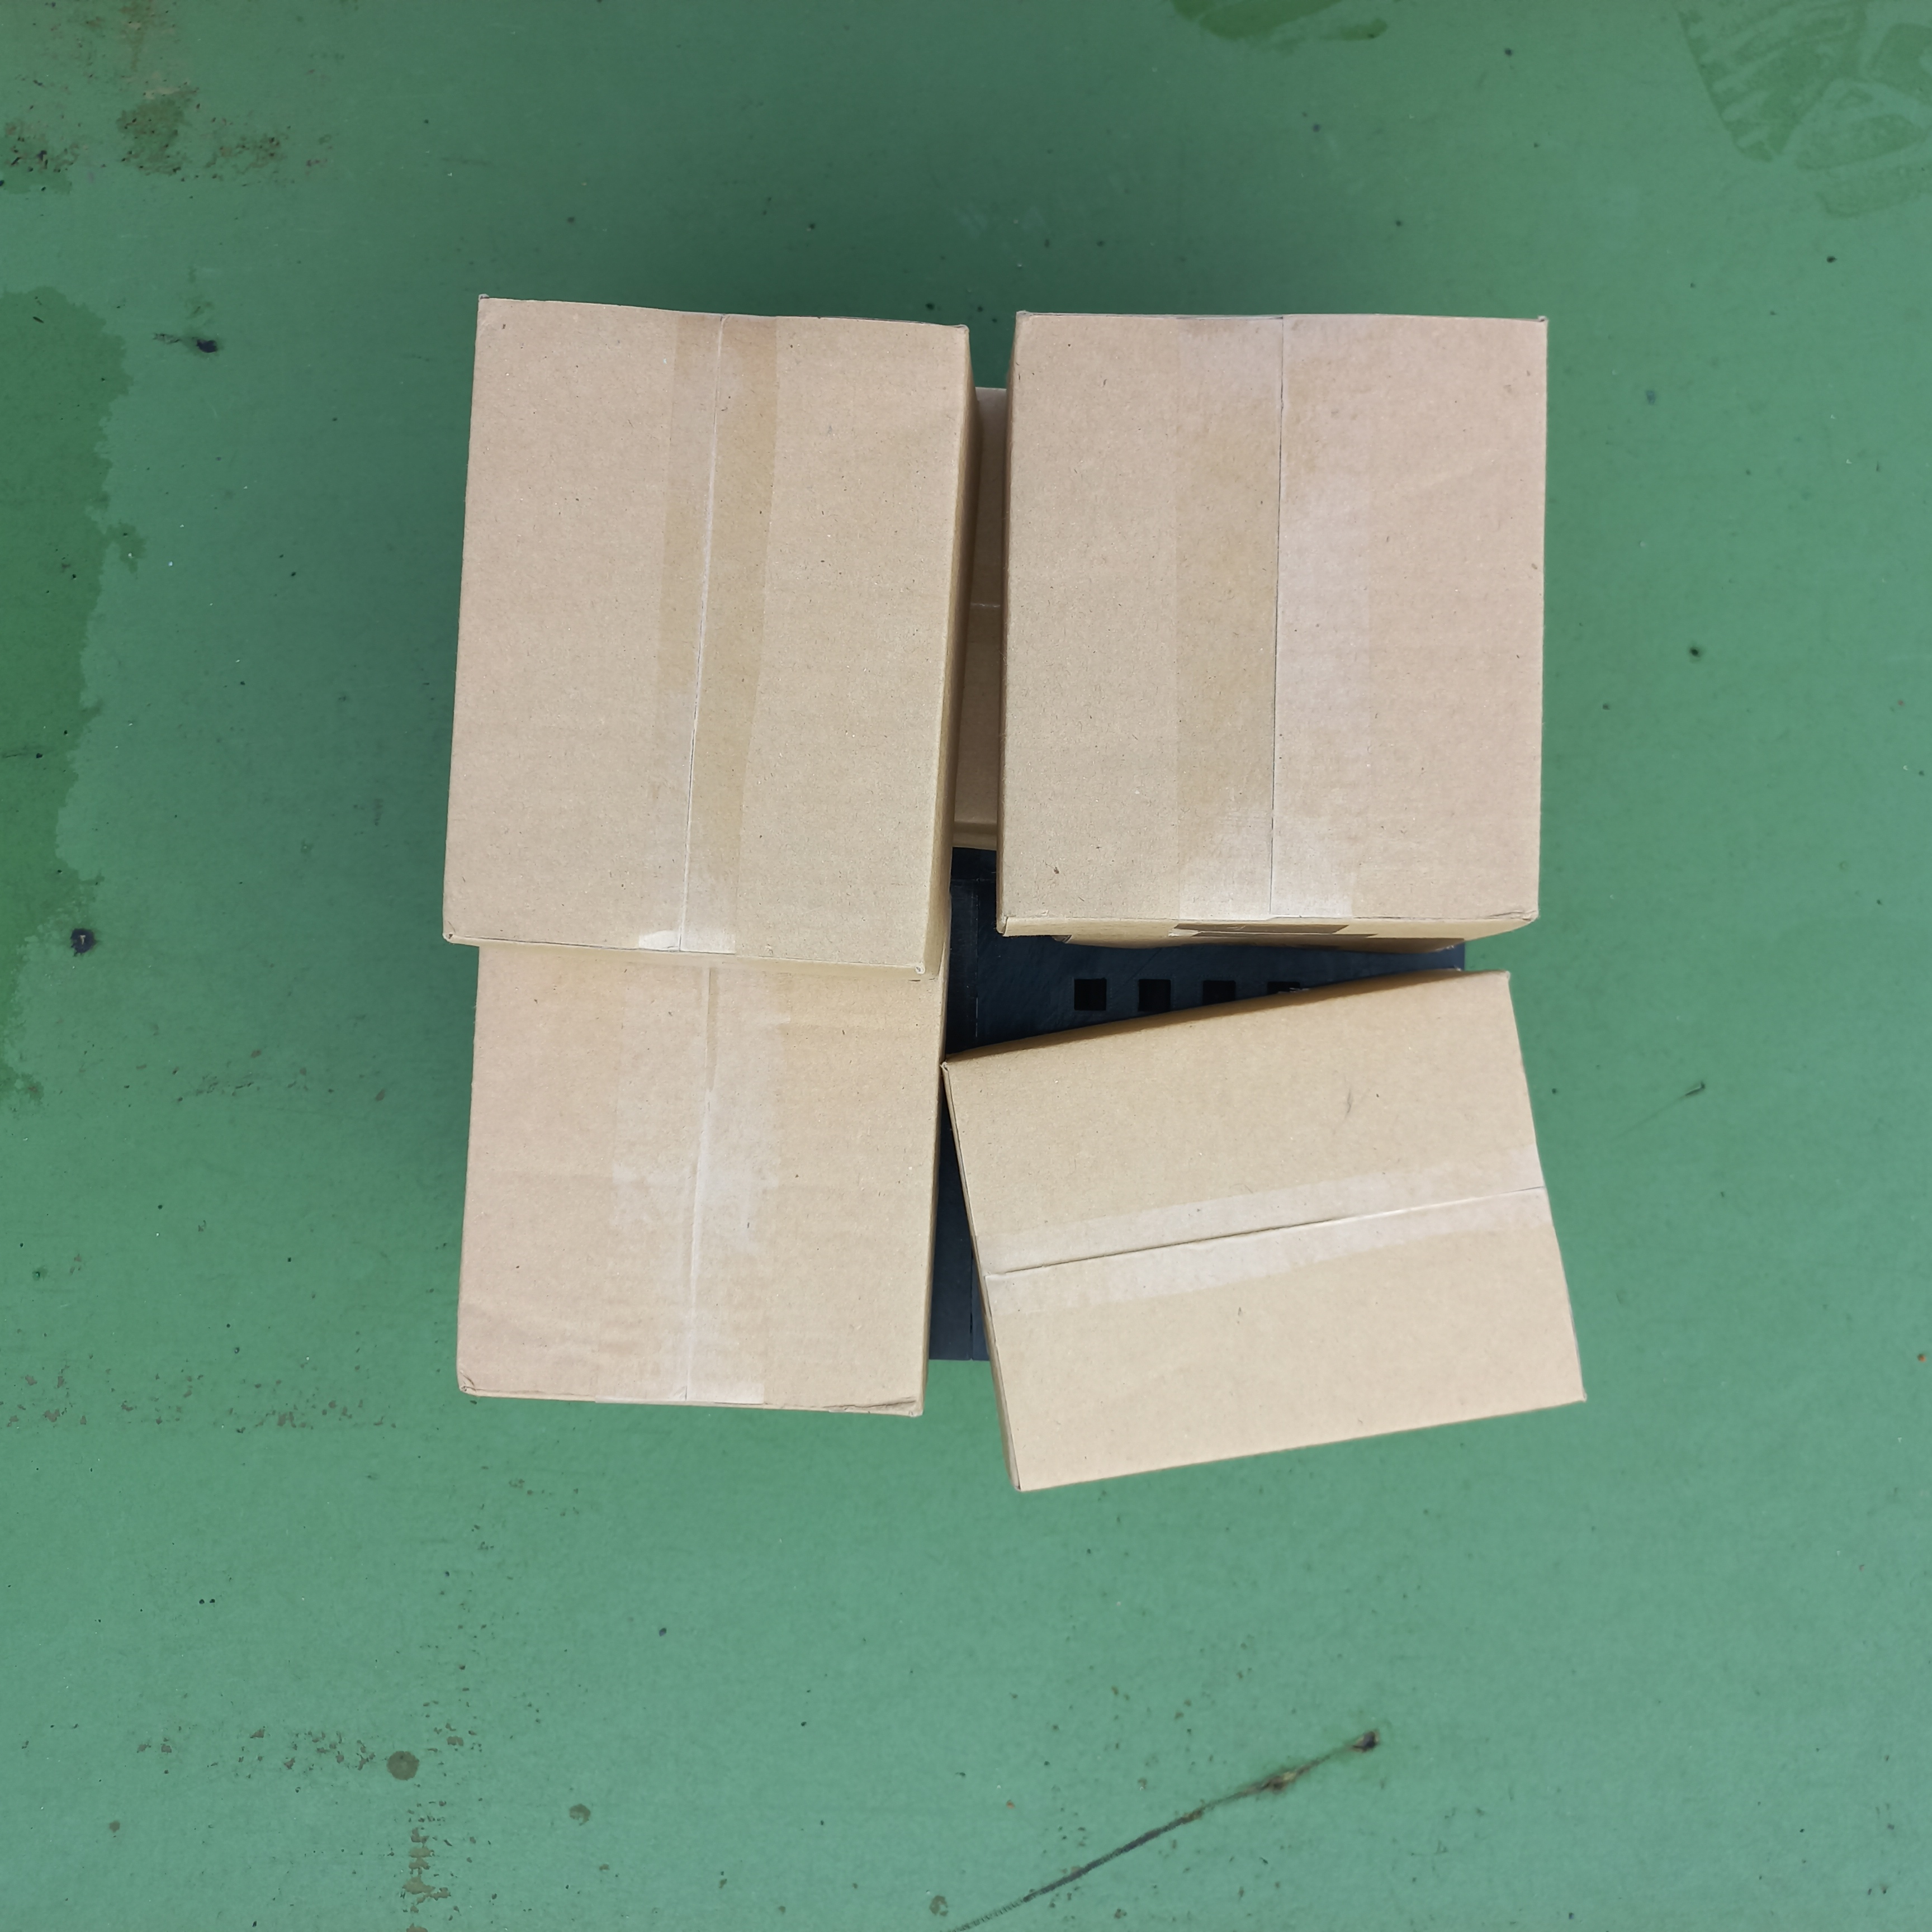box: (435, 297, 975, 1000), (993, 306, 1552, 947), (939, 957, 1589, 1502)
